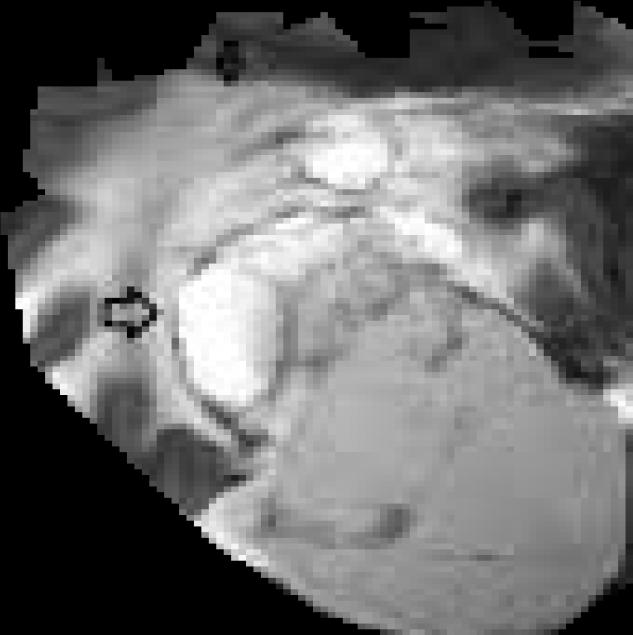tumor_less_chance: (0, 1, 633, 635)
